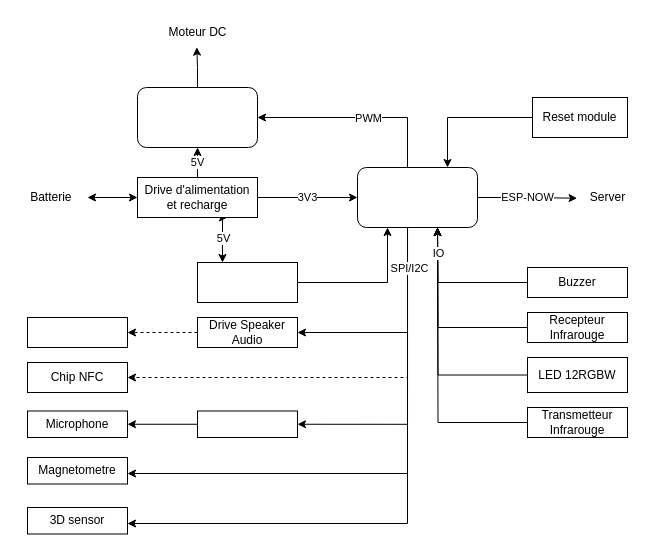
The diagram is 654 pixels wide and 551 high, and some of its shapes have lost their labels. The shapes that lost their labels are listed below. From the top down, each one's centre as x and y in pixels, then its label:
At point (197, 117): "Drive moteur".
At point (417, 197): "ESP32-WROOM".
At point (247, 282): "Port micro USB".
At point (77, 332): "Speaker Audio".
At point (247, 424): "Enregistreur Audio".
